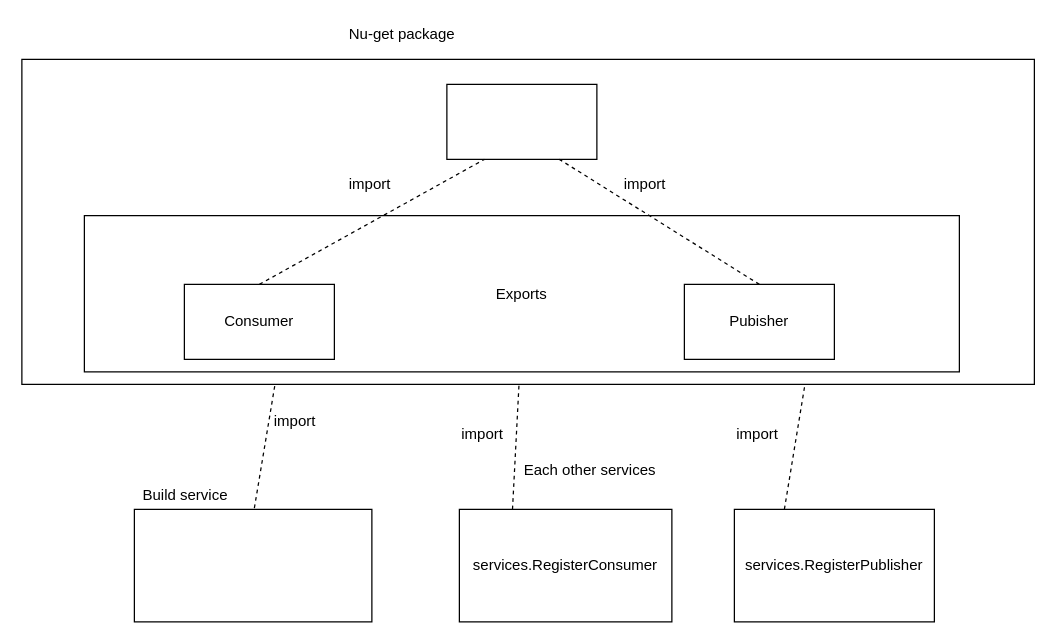
Some shapes in this 1056 by 644 pixel diagram are drawn without their labels. The centre of each missing label's shape, as x and y in pixels:
"Connection Layer" goes at point 521,121.
"services.RegisterConsumer services.RegisterPublisher" goes at point 252,565.
